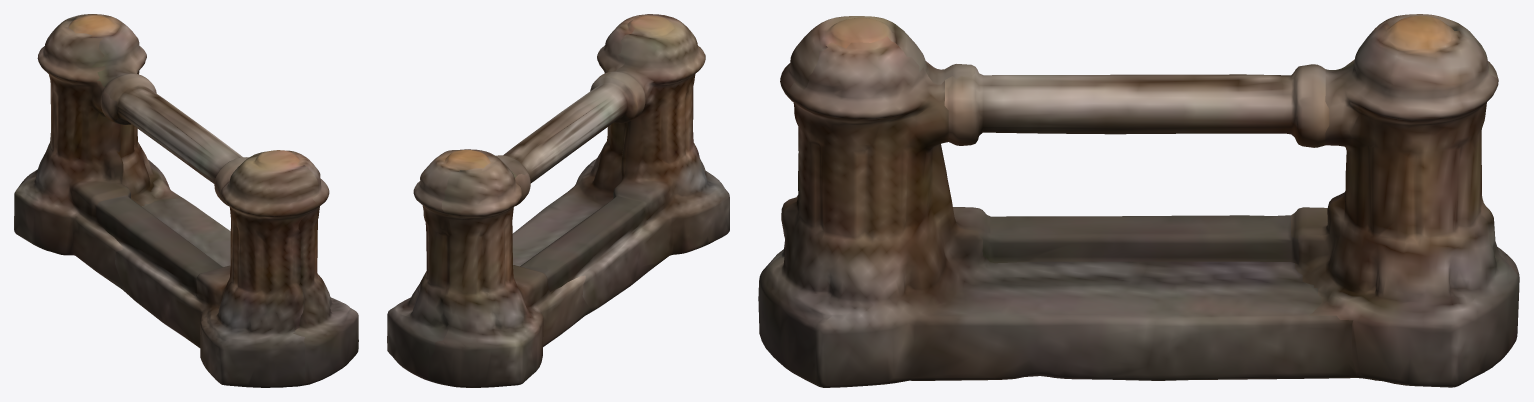
The model's file is import-1780595692635-railway.web.webp.glb.
The picture shows the model from 3 angles, left to right: view 1: azimuth 30°, elevation 25°; view 2: azimuth 150°, elevation 25°; view 3: azimuth 270°, elevation 25°; orthographic projection. The views are drawn at different scales.
Size of the model in its own units: 0.0539 by 0.0771 by 0.1703.
Materials: 1 (1 with a texture image).
